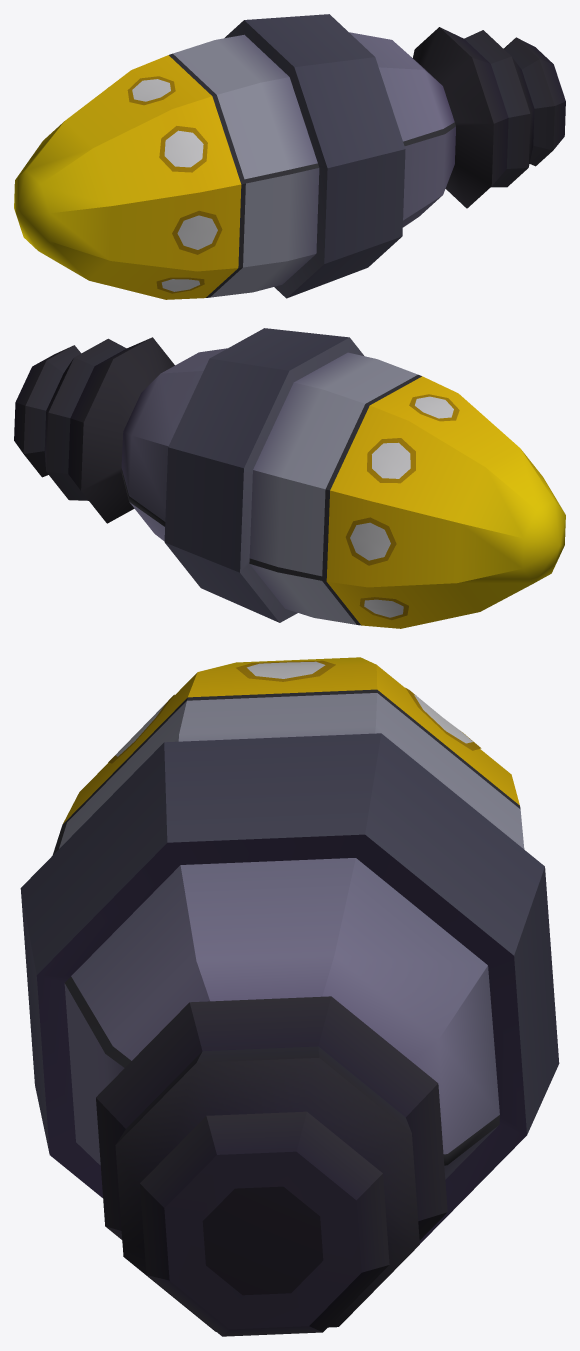
The model's file is tubeRocketB.fbx.
The picture shows the model from 3 angles, top to bottom: view 1: azimuth 30°, elevation 25°; view 2: azimuth 150°, elevation 25°; view 3: azimuth 270°, elevation 25°; orthographic projection. The views are drawn at different scales.
Parts seen in each view (by area): view 1: tubeRocketB; view 2: tubeRocketB; view 3: tubeRocketB.
Boxes of the visible parts, x1=… form: tubeRocketB: x1=14, y1=14, x2=565, y2=299; tubeRocketB: x1=14, y1=328, x2=565, y2=628; tubeRocketB: x1=20, y1=657, x2=559, y2=1336.
Bounding box in the file's own units: 91.18 × 41.18 × 41.14.
